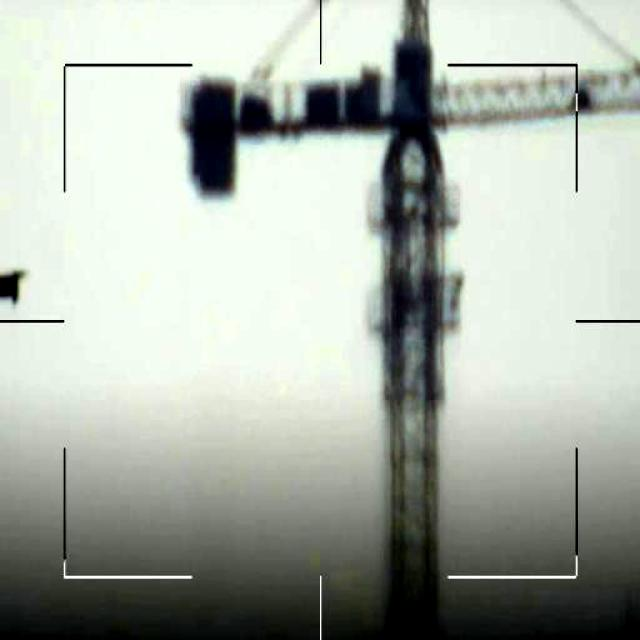bird: (0, 262, 30, 306)
